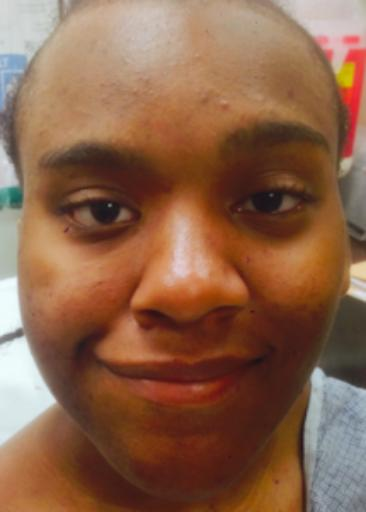left_eye: (228, 184, 311, 221)
left_lip_corner: (251, 351, 275, 374)
right_eye: (59, 198, 141, 231)
right_lip_corner: (87, 347, 108, 374)
